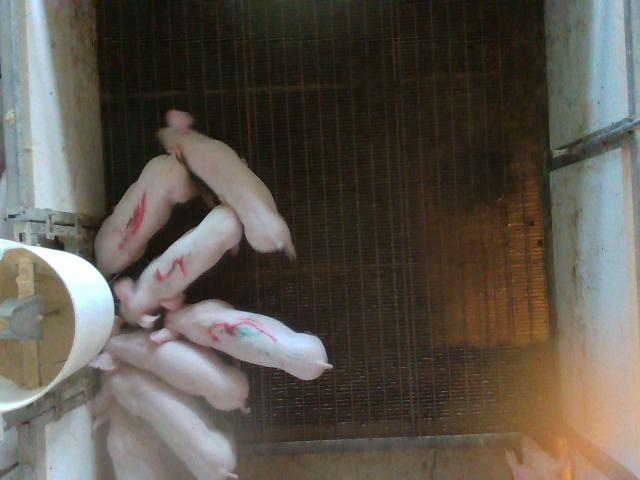pig-1: (95, 154, 196, 277)
pig-3: (150, 292, 332, 380)
pig-5: (115, 206, 242, 322)
